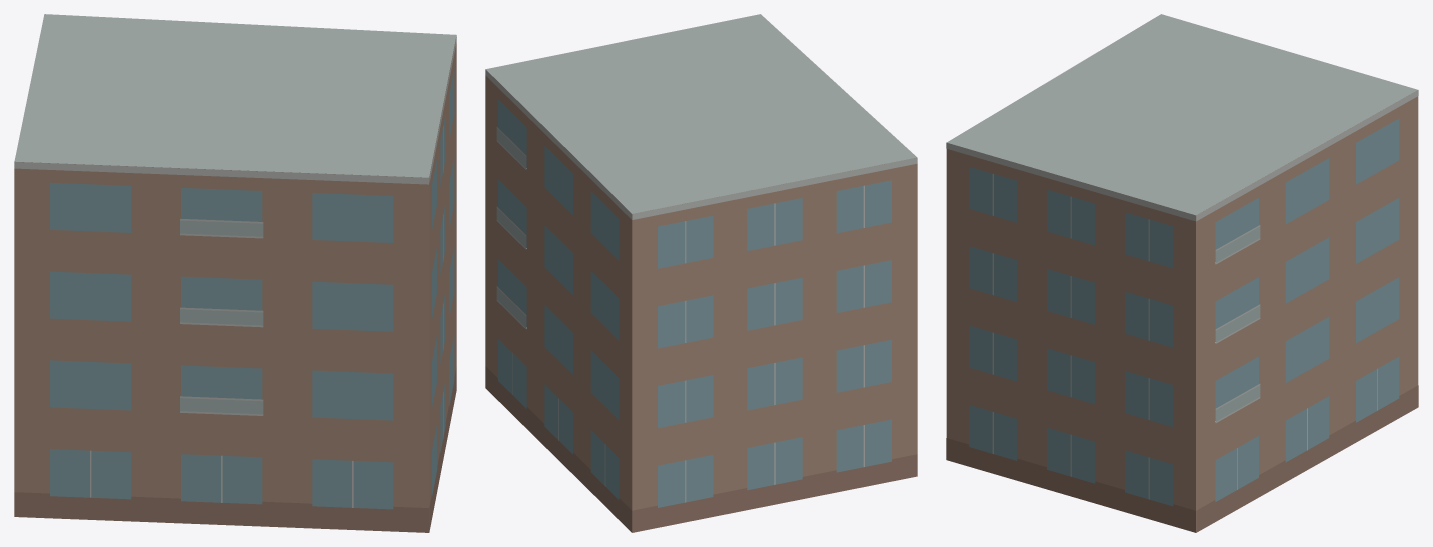
The model's file is survey-upis-32826836.glb.
The picture shows the model from 3 angles, left to right: view 1: azimuth 30°, elevation 25°; view 2: azimuth 150°, elevation 25°; view 3: azimuth 270°, elevation 25°; orthographic projection. The views are drawn at different scales.
Visible parts, largest first — view 1: survey-upis-32826836.tmp; view 2: survey-upis-32826836.tmp; view 3: survey-upis-32826836.tmp.
Part boxes in pixels (box(x1,y1,x2,y2)): survey-upis-32826836.tmp: box(14, 14, 456, 532); survey-upis-32826836.tmp: box(485, 14, 917, 532); survey-upis-32826836.tmp: box(946, 14, 1418, 532).
Size of the model in its own units: 17.29 by 12.7 by 17.12.
